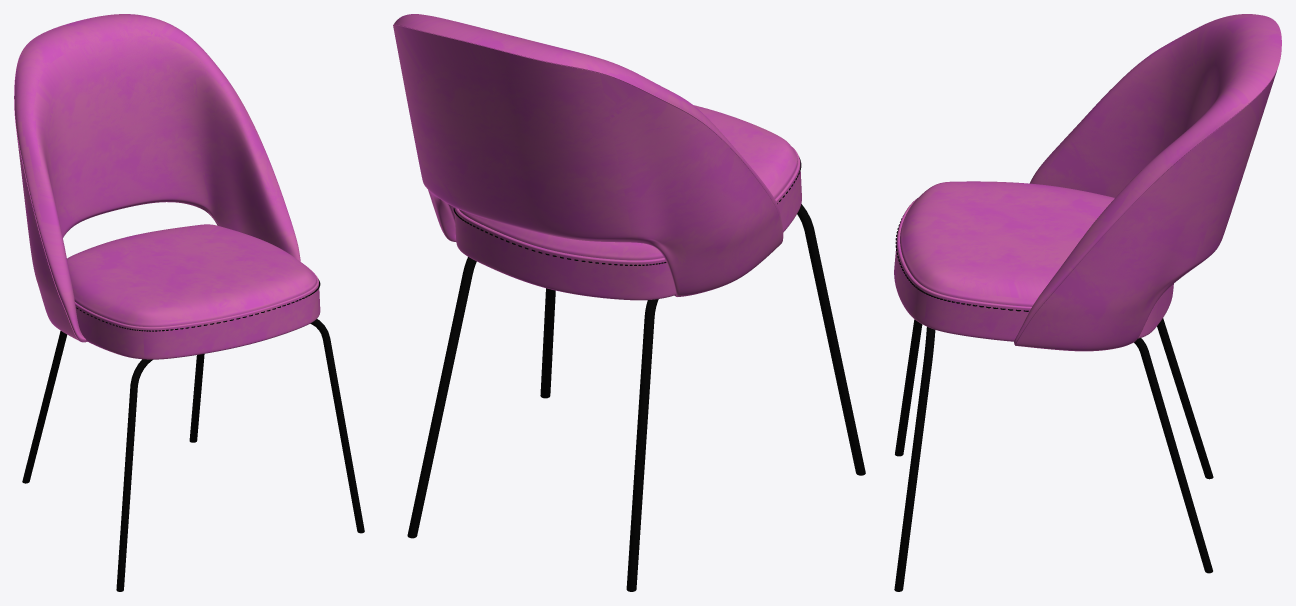
File: pink.glb
3 renders of one model, left to right at view 1: azimuth 30°, elevation 25°; view 2: azimuth 150°, elevation 25°; view 3: azimuth 270°, elevation 25°, orthographic. The views are drawn at different scales.
Visible parts, largest first — view 1: chair_ back, chair_seat, Legs; view 2: chair_ back, chair_seat, Legs; view 3: chair_ back, chair_seat, Legs.
Part boxes in pixels (box(x1,y1,x2,y2)): chair_ back: box(14, 14, 300, 342); chair_seat: box(67, 224, 320, 359); Legs: box(22, 319, 364, 591); chair_ back: box(393, 14, 783, 296); chair_seat: box(454, 105, 801, 300); Legs: box(407, 204, 865, 591); chair_ back: box(1014, 14, 1281, 351); chair_seat: box(894, 181, 1173, 341); Legs: box(894, 318, 1213, 591).
Size of the model in its own units: 0.5256 by 0.8524 by 0.6193.
Materials: 3 (1 with a texture image).
